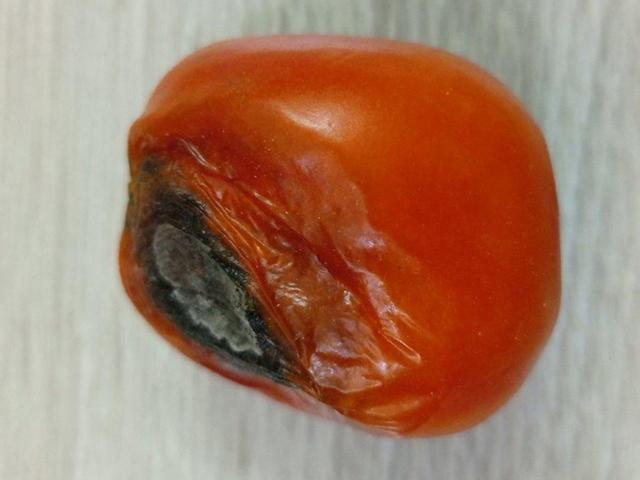defect: (120, 25, 564, 440)
